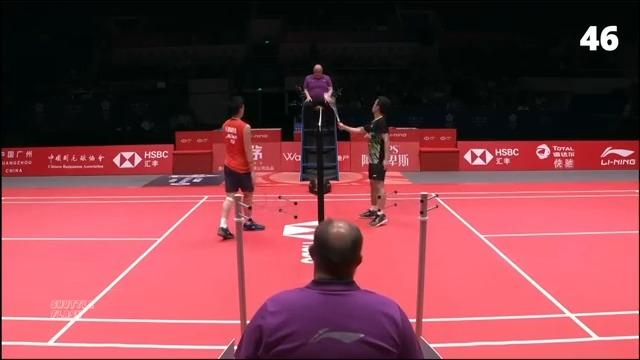Shuttlecock: (322, 91, 330, 103)
